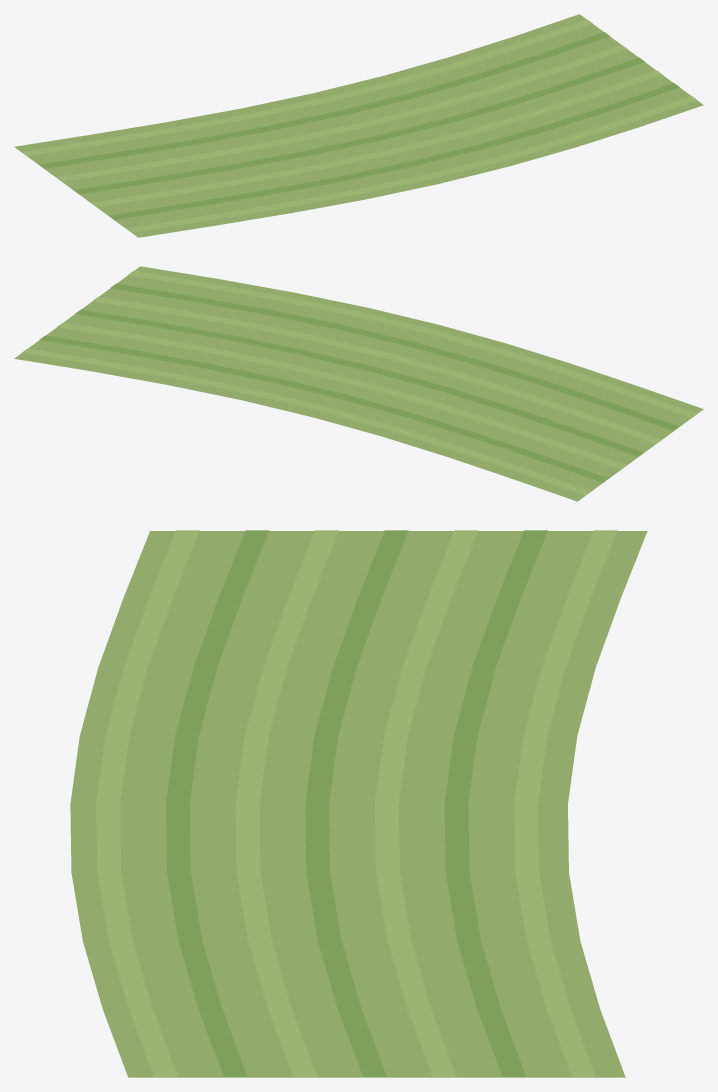
File: Parcelle_5.fbx
3 views of the same model, one above another, from view 1: azimuth 30°, elevation 25°; view 2: azimuth 150°, elevation 25°; view 3: azimuth 270°, elevation 25° (orthographic). The views are drawn at different scales.
Visible parts, largest first — view 1: Parcelle_5; view 2: Parcelle_5; view 3: Parcelle_5.
Boxes of the visible parts, left/top/right/bottom form: Parcelle_5: left=14, top=14, right=703, bottom=237; Parcelle_5: left=14, top=266, right=703, bottom=501; Parcelle_5: left=70, top=530, right=647, bottom=1077.
Bounding box in the file's own units: 2600 × 1.7 × 1160.
Materials: 1 (1 with a texture image).
